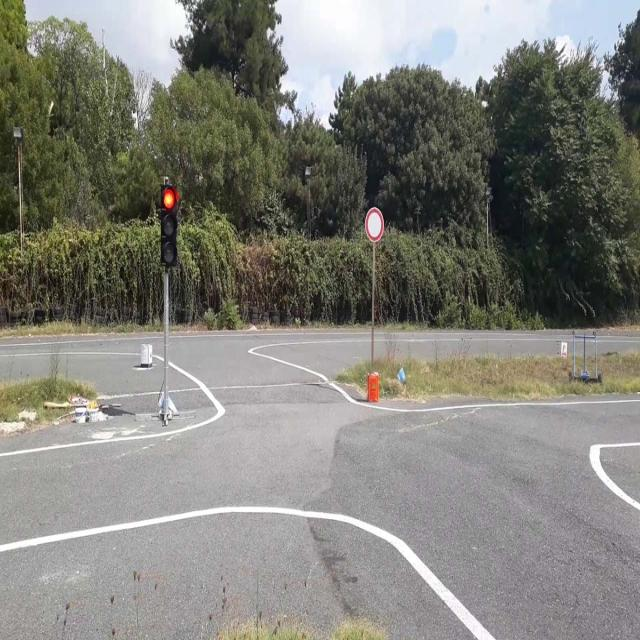kirmizi: (161, 184, 177, 264)
